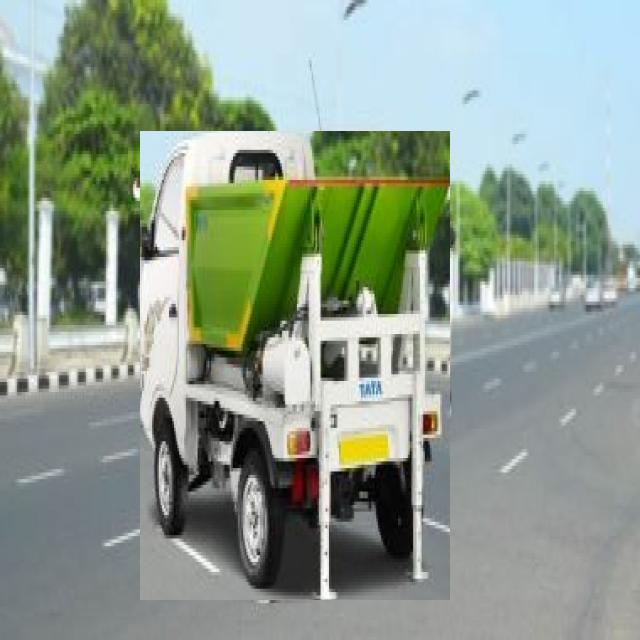truck: (140, 132, 450, 600)
